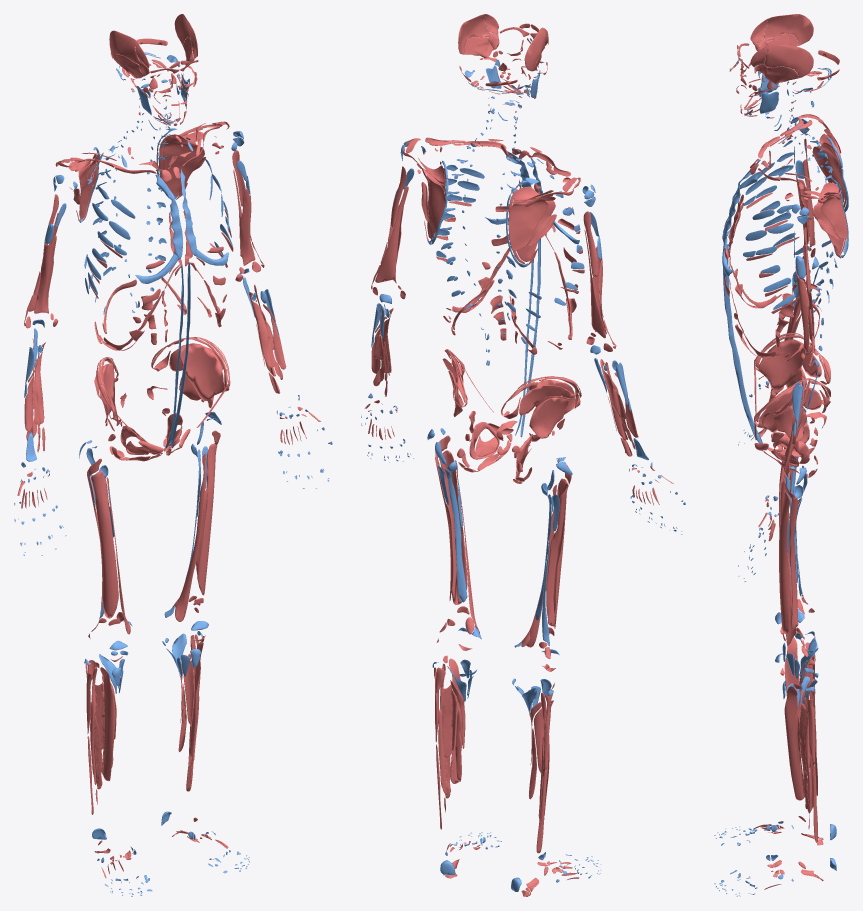
File: insertions.glb
3 renders of one model, left to right at view 1: azimuth 30°, elevation 25°; view 2: azimuth 150°, elevation 25°; view 3: azimuth 270°, elevation 25°, orthographic. The views are drawn at different scales.
Parts seen in each view (by area): view 1: Vastus intermedius muscle.or, Iliacus muscle.ol, Subscapularis muscle.ol, Vastus intermedius muscle.ol, Tibialis anterior muscle.or, Vastus medialis muscle.ol, Brachialis muscle.or, Brachialis muscle.ol, Ulnar head of flexor carpi ulnaris.ol, Temporalis muscle.o2r, Rectus abdominis muscle.el; view 2: Infraspinatus muscle.or, Vastus intermedius muscle.ol, Vastus lateralis muscle.or, Gluteus minimus muscle.or, Adductor magnus.el, Tibialis posterior muscle.ol, Medial head of triceps brachii.ol, Gluteus medius muscle.or, Infraspinatus muscle.ol, Vastus intermedius muscle.or, Temporalis muscle.o2l; view 3: Iliacus muscle.or, Tibialis anterior muscle.ol, Vastus intermedius muscle.ol, Temporalis muscle.o2l, Temporalis muscle.o2r, Rectus abdominis muscle.el, Vastus lateralis muscle.ol, Infraspinatus muscle.ol, Subscapularis muscle.or, Gluteus minimus muscle.ol, Brachialis muscle.ol, Iliacus muscle.ol (+17 smaller).
Boxes of the visible parts, x1,y1,x2,y2 form: Vastus intermedius muscle.or: (91, 471, 118, 618); Iliacus muscle.ol: (180, 343, 224, 401); Subscapularis muscle.ol: (163, 136, 204, 196); Vastus intermedius muscle.ol: (197, 443, 217, 595); Tibialis anterior muscle.or: (100, 667, 115, 781); Vastus medialis muscle.ol: (175, 453, 206, 621); Brachialis muscle.or: (34, 235, 56, 313); Brachialis muscle.ol: (239, 188, 255, 265); Ulnar head of flexor carpi ulnaris.ol: (249, 292, 276, 367); Temporalis muscle.o2r: (109, 30, 139, 64); Rectus abdominis muscle.el: (170, 262, 190, 446); Infraspinatus muscle.or: (508, 196, 555, 251); Vastus intermedius muscle.ol: (439, 450, 467, 604); Vastus lateralis muscle.or: (546, 464, 571, 626); Gluteus minimus muscle.or: (529, 397, 569, 438); Adductor magnus.el: (444, 469, 481, 639); Tibialis posterior muscle.ol: (441, 684, 456, 757); Medial head of triceps brachii.ol: (375, 186, 408, 282); Gluteus medius muscle.or: (519, 385, 574, 415); Infraspinatus muscle.ol: (417, 163, 445, 231); Vastus intermedius muscle.or: (553, 478, 567, 628); Temporalis muscle.o2l: (458, 14, 489, 54); Iliacus muscle.or: (758, 339, 805, 390); Tibialis anterior muscle.ol: (784, 686, 804, 800); Vastus intermedius muscle.ol: (779, 490, 790, 634); Temporalis muscle.o2l: (764, 44, 813, 77); Temporalis muscle.o2r: (764, 14, 813, 45); Rectus abdominis muscle.el: (723, 247, 761, 443); Vastus lateralis muscle.ol: (783, 479, 798, 629); Infraspinatus muscle.ol: (820, 194, 847, 239); Subscapularis muscle.or: (812, 145, 844, 202); Gluteus minimus muscle.ol: (774, 405, 806, 441); Brachialis muscle.ol: (795, 266, 809, 351); Iliacus muscle.ol: (758, 382, 805, 432).
Bounding box in the file's own units: 0.6605 × 1.65 × 0.2415.
